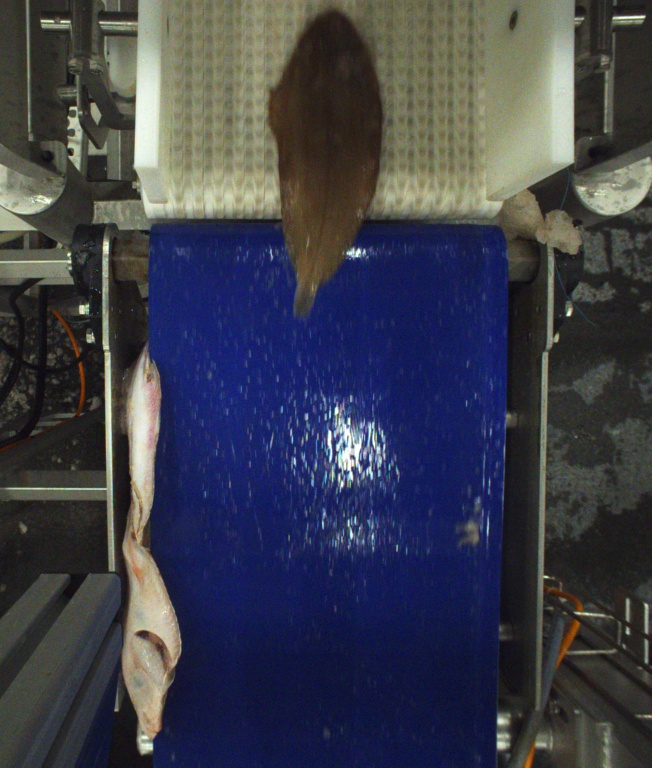SOL: (265, 10, 382, 311)
